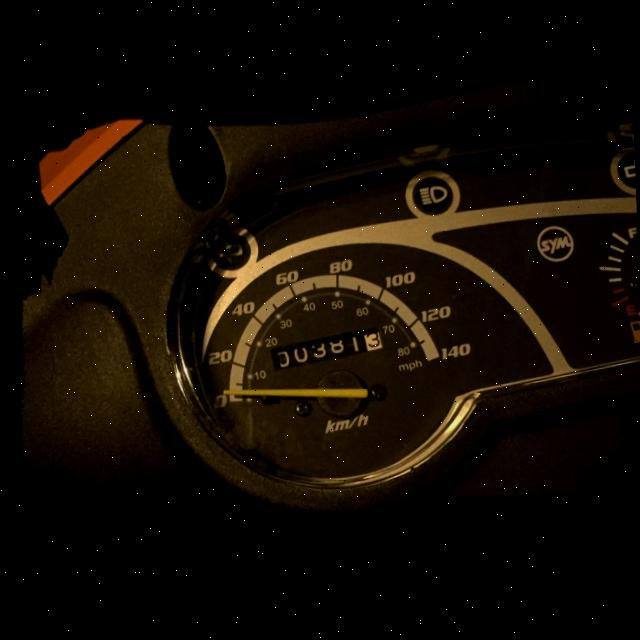odometer: (269, 328, 385, 369)
